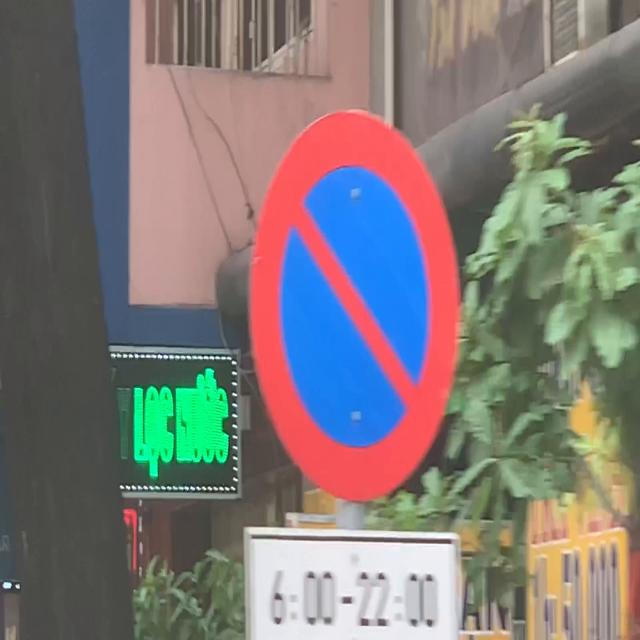Cam do: (268, 113, 451, 491)
